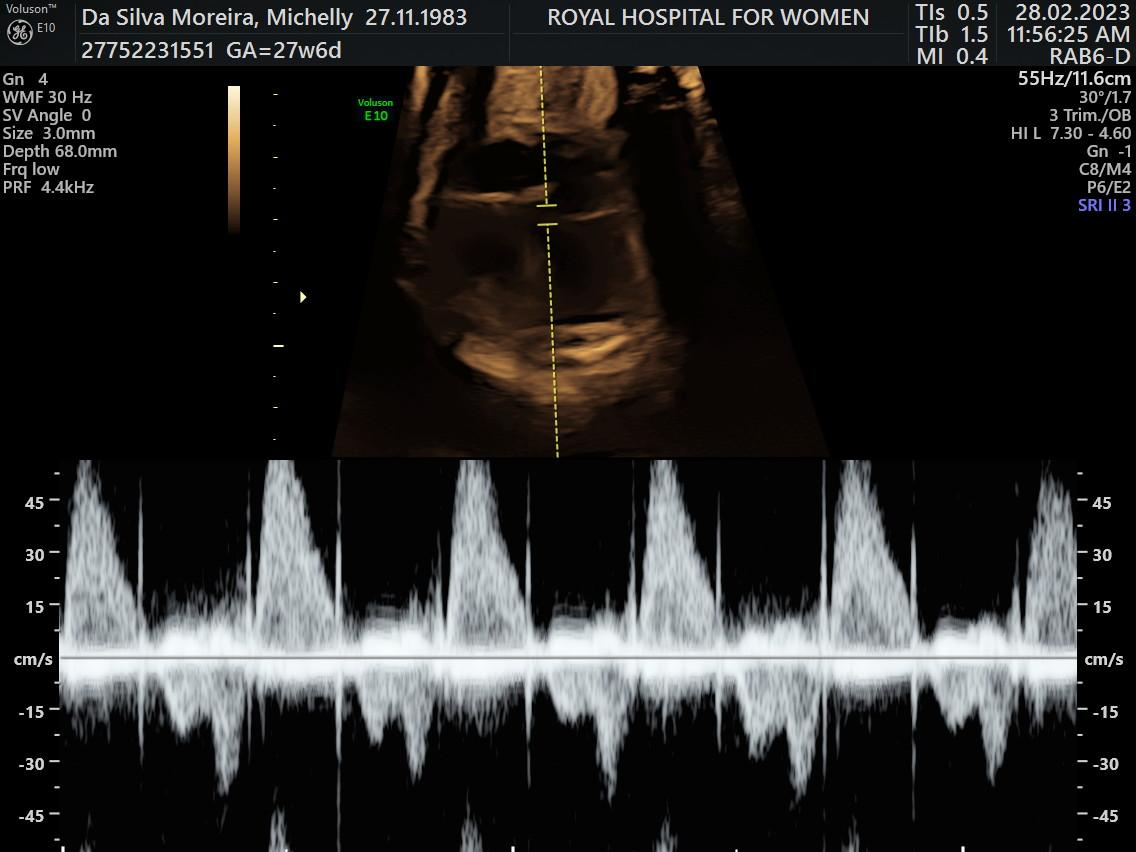Ultrasound-Waves: (62, 454, 1075, 851)
